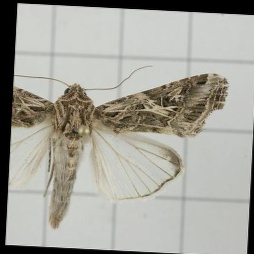Spodoptera litura: (10, 63, 226, 234)
